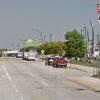Car: (44, 50, 92, 72)
